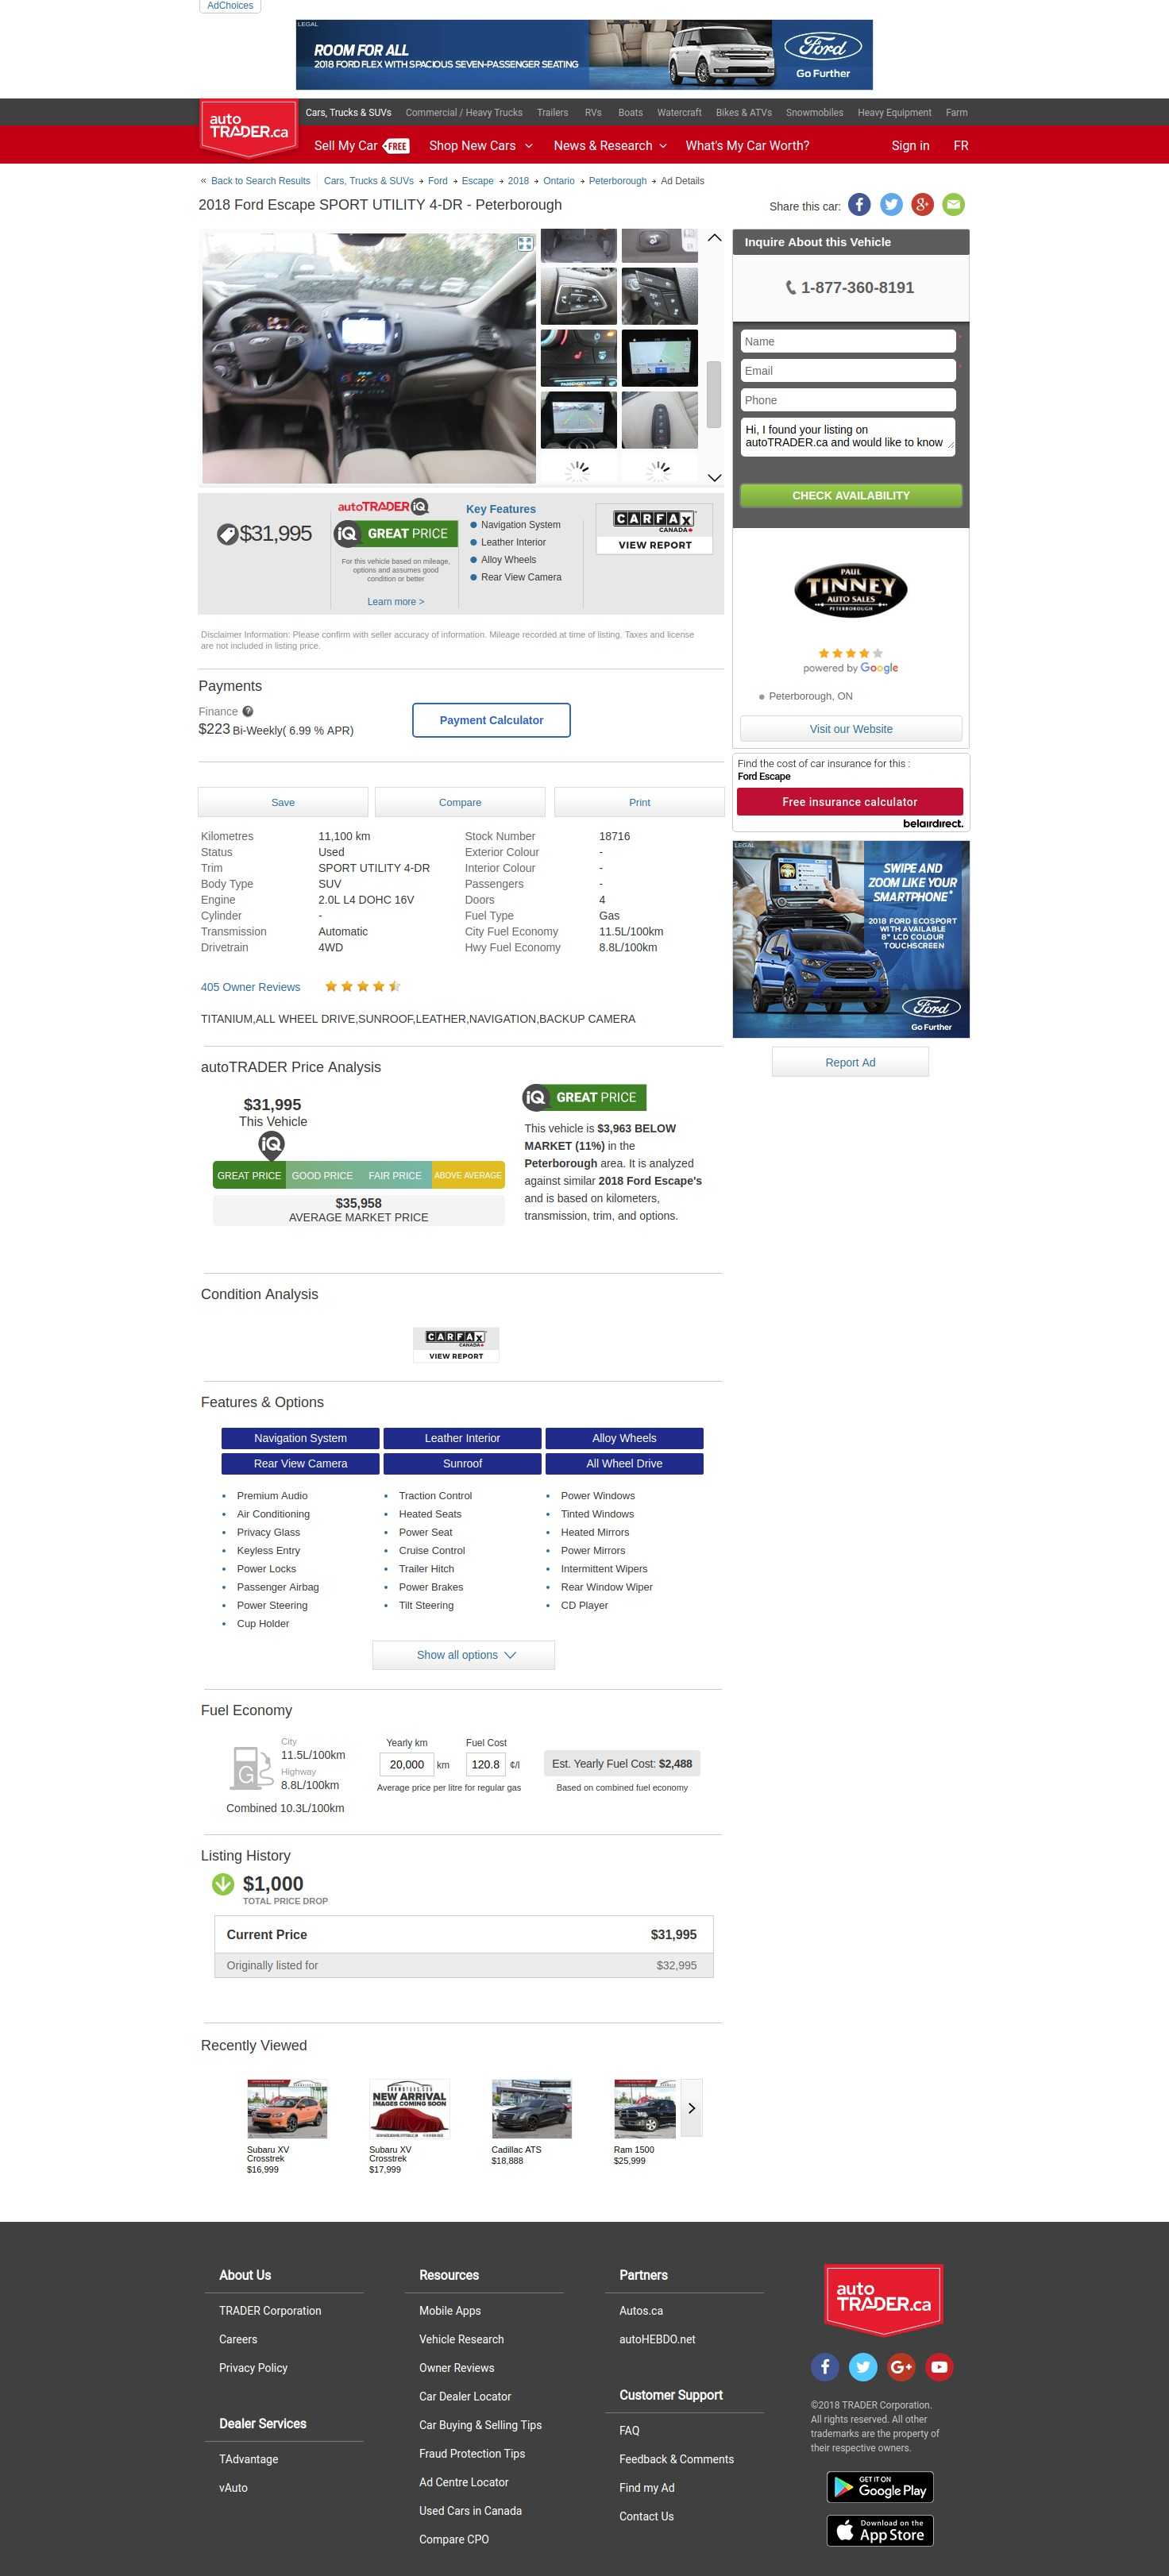car: (707, 473, 723, 483)
